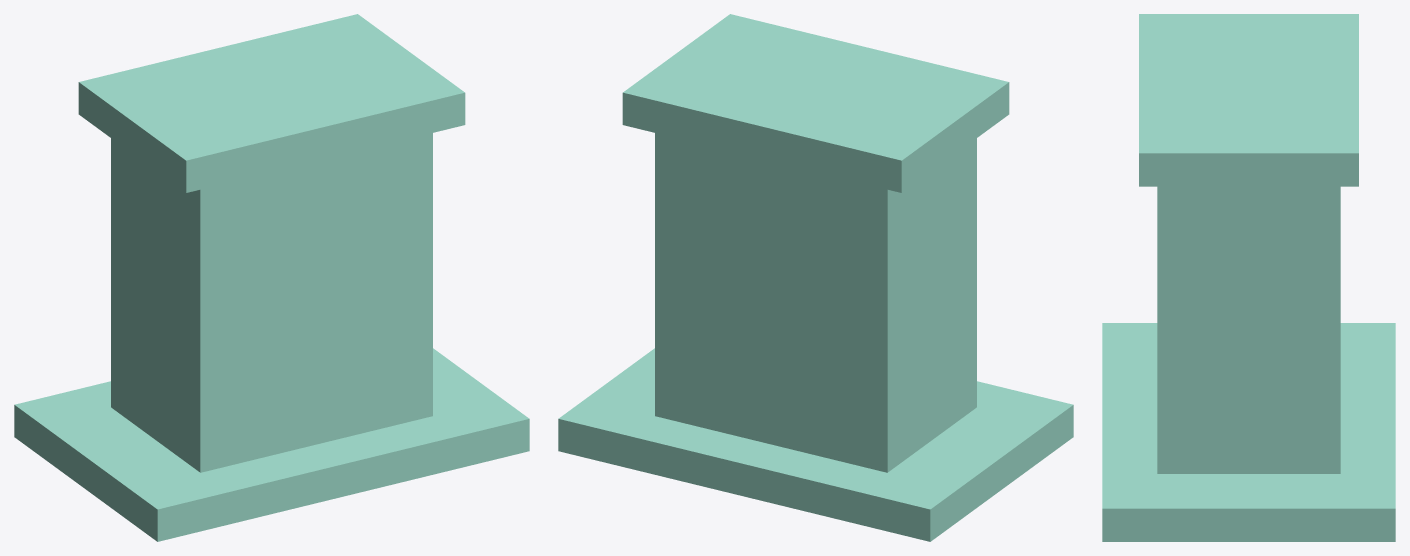
Rendered from sample-building.glb.
3 views of the same model, side by side, from view 1: azimuth 30°, elevation 25°; view 2: azimuth 150°, elevation 25°; view 3: azimuth 270°, elevation 25° (orthographic). The views are drawn at different scales.
Size of the model in its own units: 48 by 44 by 32.
